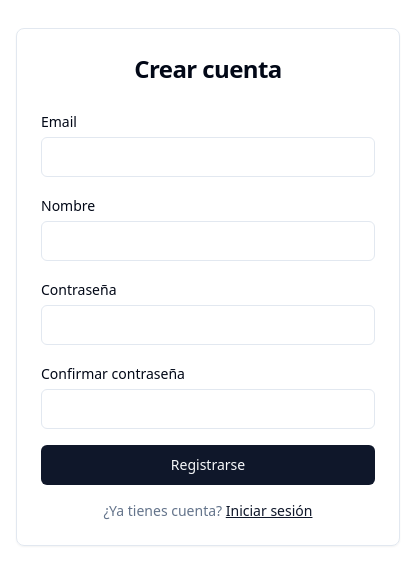
Test: RegisterPage — validación Zod › muestra error cuando la contraseña no tiene mayúscula
Type "new@test.com" into the field labelled "Email" at (208, 157), box x1=41 y1=137 x2=375 y2=177
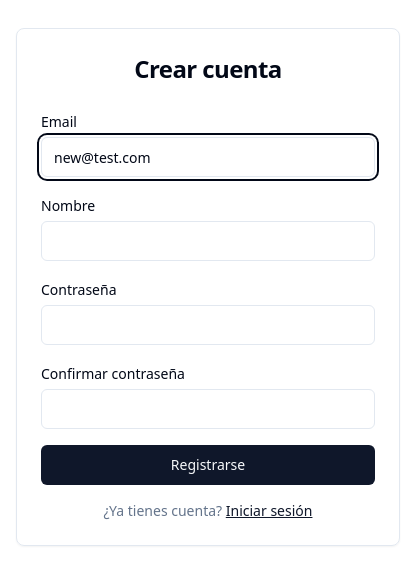
Type "Nuevo" into the field labelled "Nombre" at (208, 241), box x1=41 y1=221 x2=375 y2=261
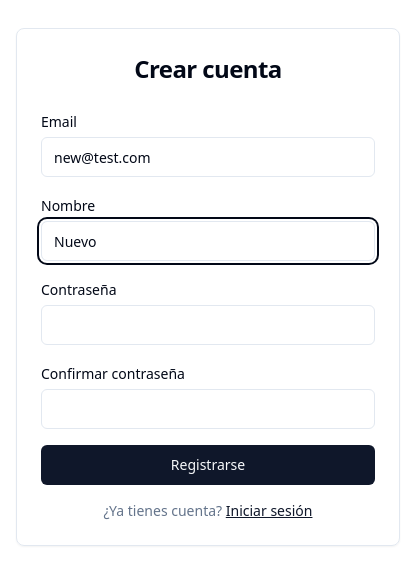
Type "password1" into the password field labelled "Contraseña" at (208, 325), box x1=41 y1=305 x2=375 y2=345
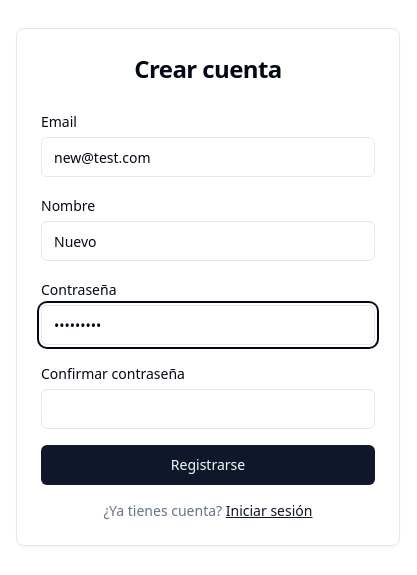
Type "password1" into the password field labelled "Confirmar contraseña" at (208, 409), box x1=41 y1=389 x2=375 y2=429
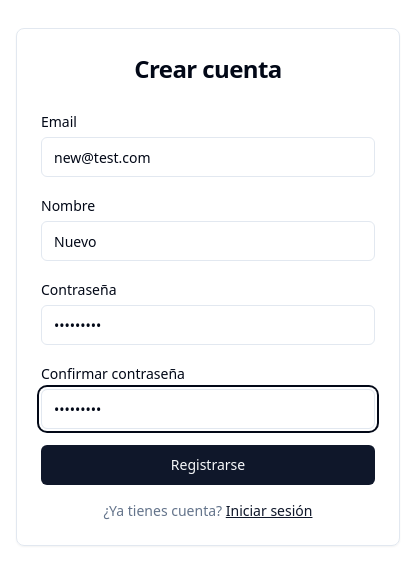
Click the button "Registrarse" at (208, 465), box x1=41 y1=445 x2=375 y2=485
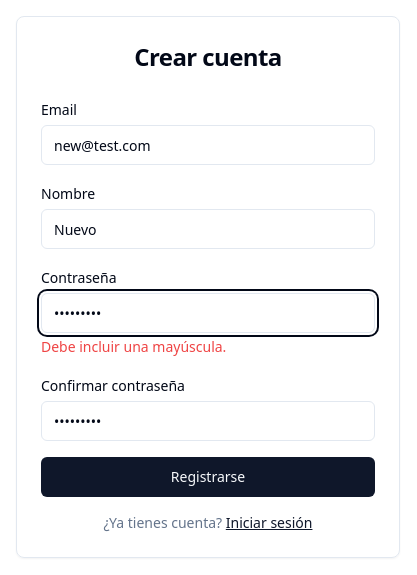
Check: the text "Debe incluir una mayúscula." is shown, box x1=41 y1=337 x2=226 y2=356
